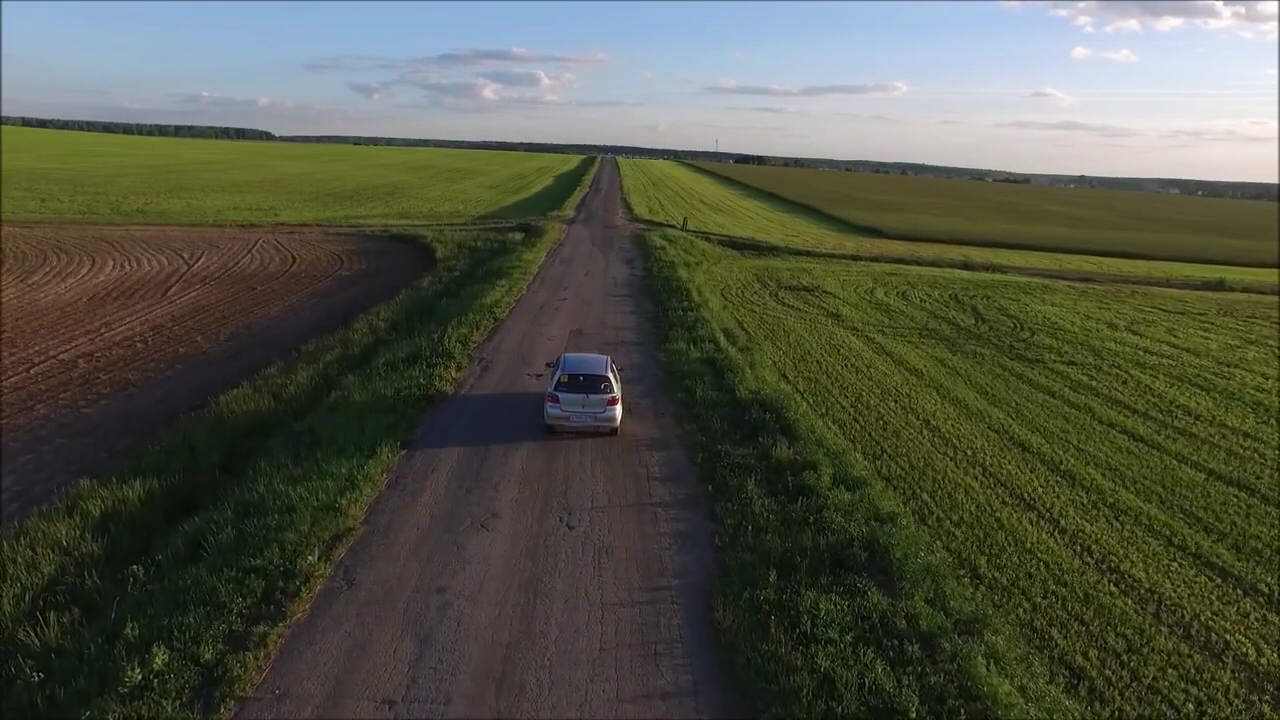araba: (541, 351, 624, 436)
